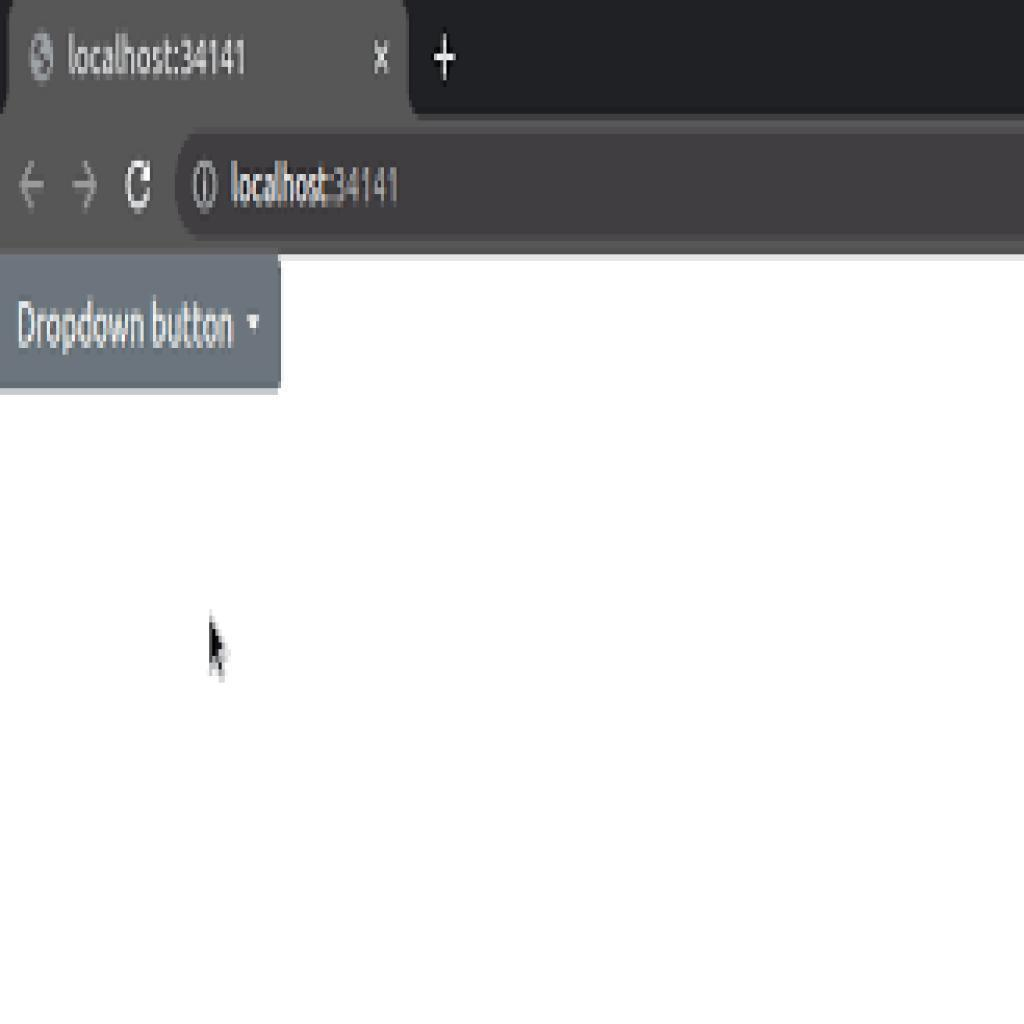dropdown: (1, 252, 282, 389)
icon: (125, 158, 153, 217), (191, 161, 220, 217), (70, 162, 101, 214), (18, 161, 47, 216), (432, 34, 460, 84)
